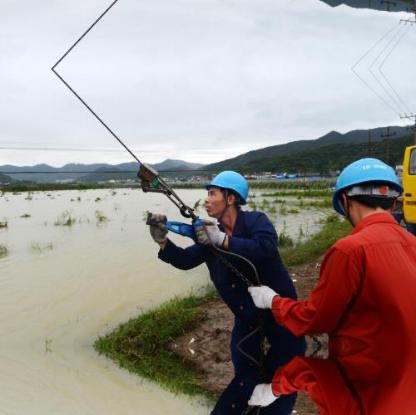Safety Helmet: (324, 153, 407, 234), (203, 163, 250, 230)
